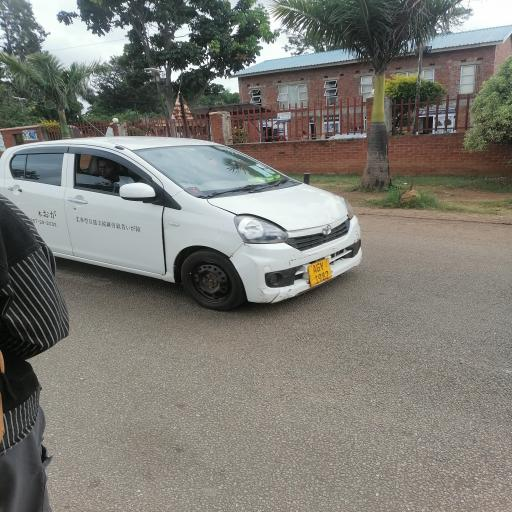number-plates: (304, 261, 342, 289)
